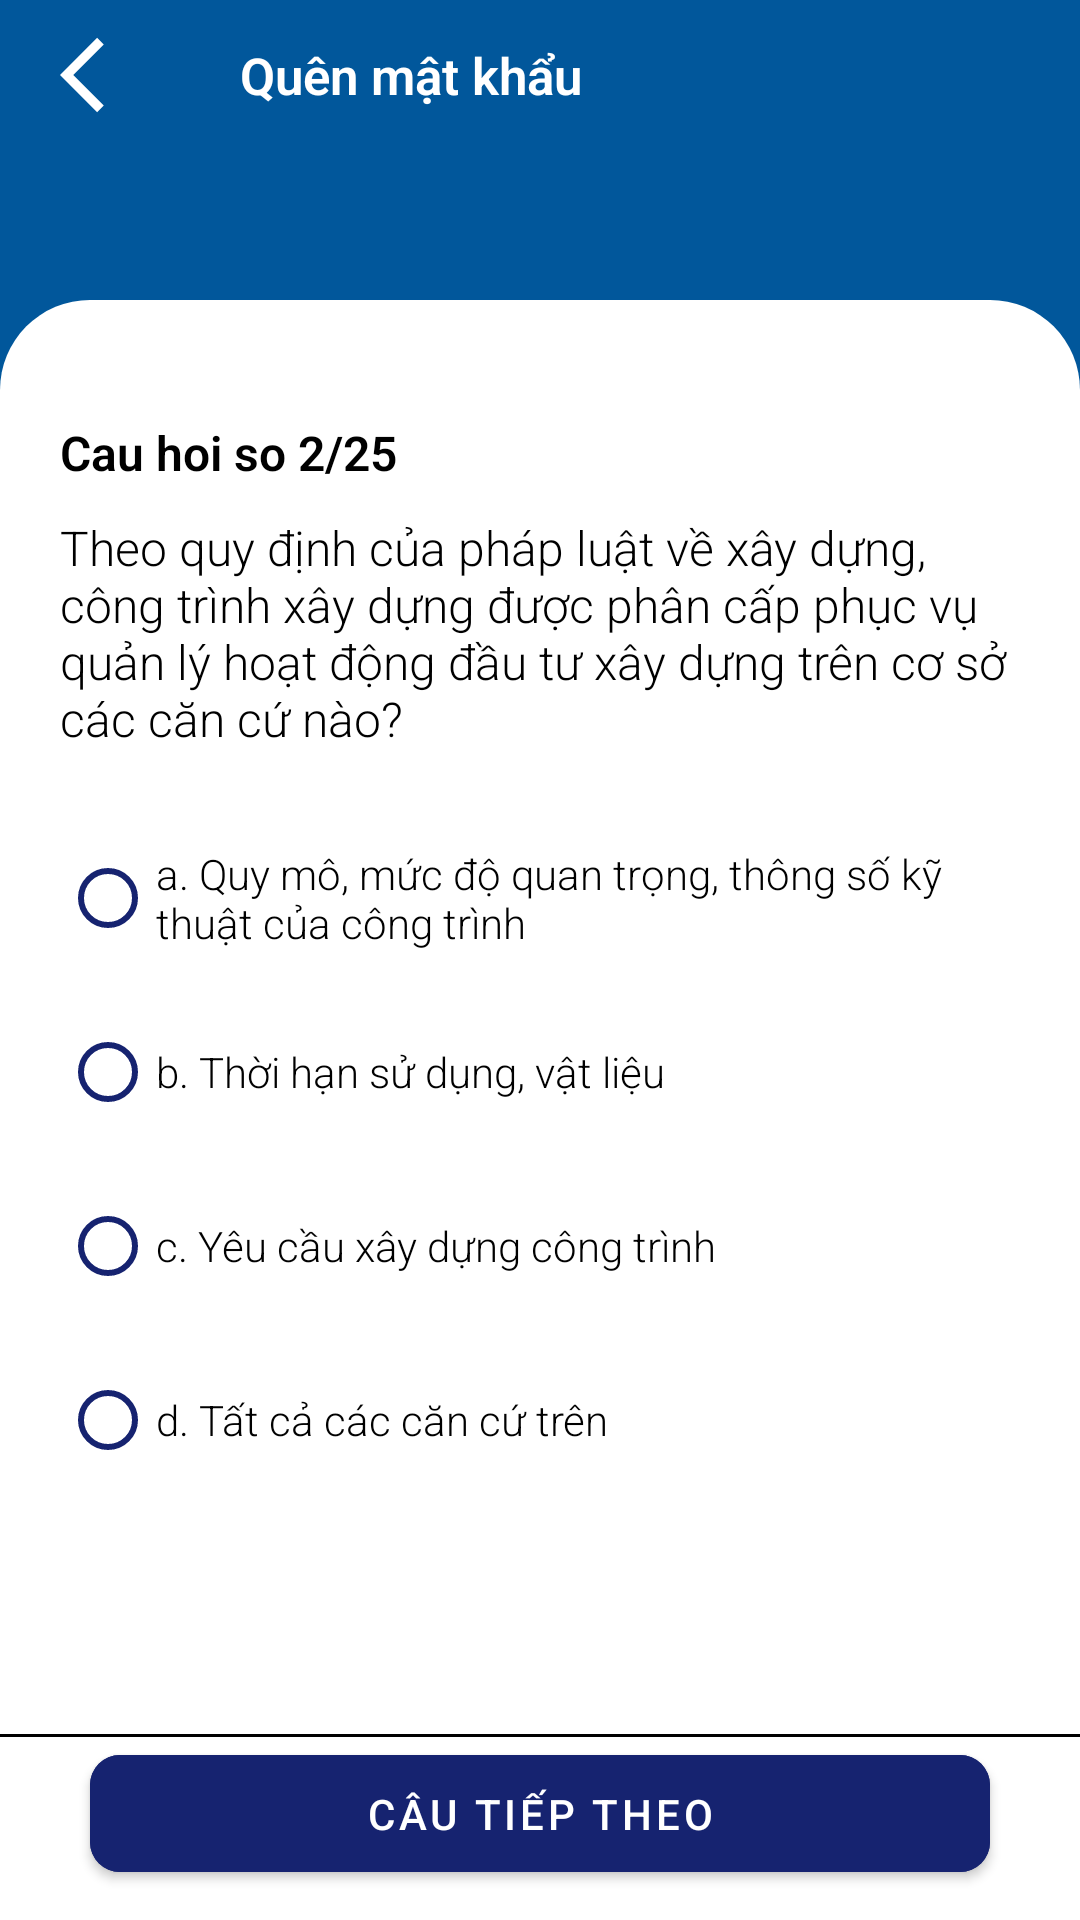

Named icons in this screenshot (1080w x 1920h) and their bounding boxes, region(x1, y1, x2, y2):
back: region(60, 38, 104, 112)
